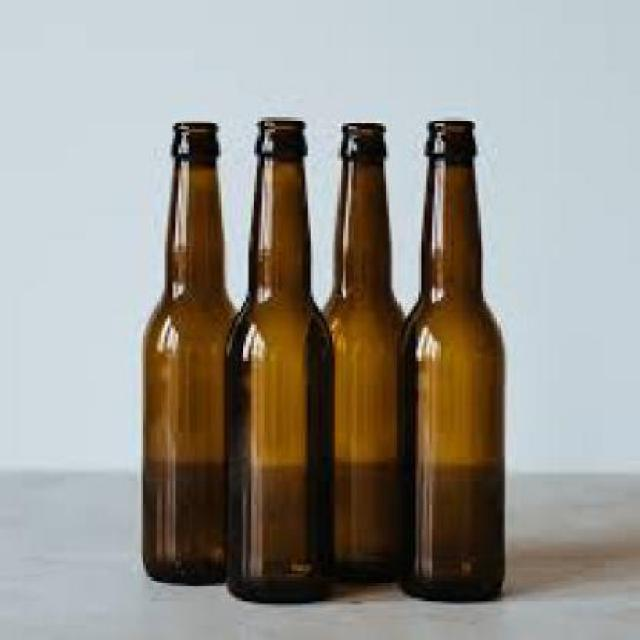kaca: (222, 114, 329, 598), (397, 117, 503, 601), (142, 120, 238, 586), (318, 120, 408, 583)
